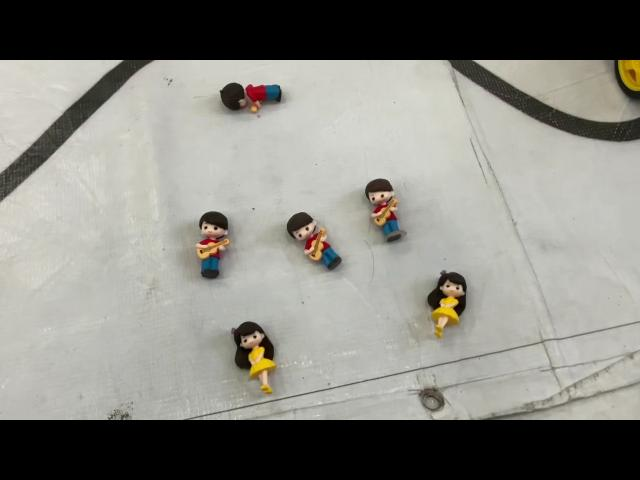man: (284, 212, 344, 271), (362, 176, 406, 246), (194, 209, 232, 280), (218, 80, 284, 118)
woman: (224, 320, 286, 396), (427, 263, 471, 345)
